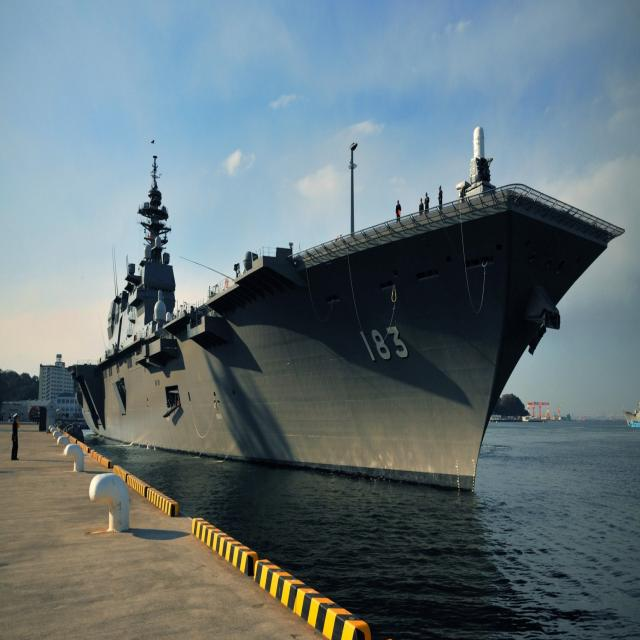Portanaves: (67, 122, 632, 504)
